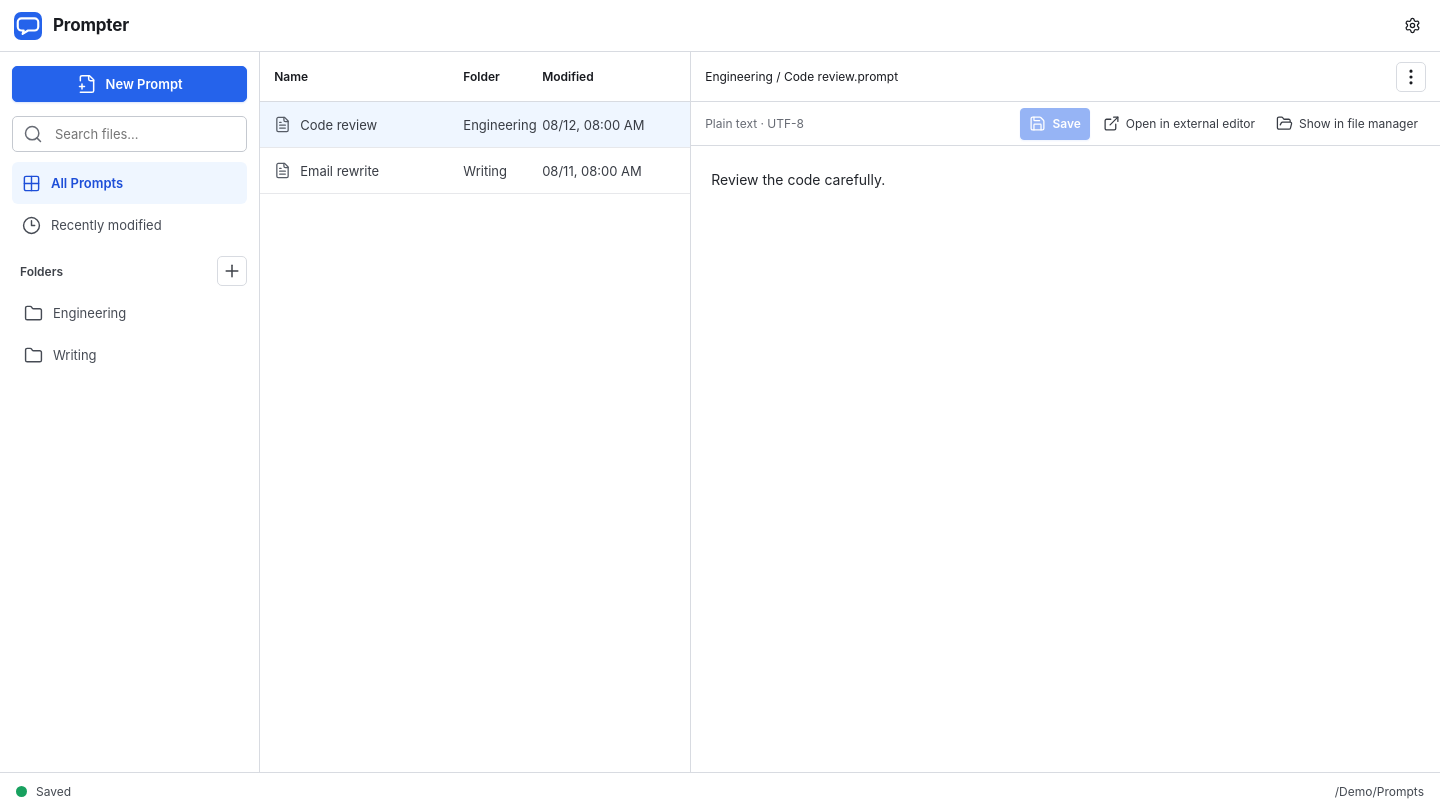
Test: Manager › discards an unsaved draft when browsing to another prompt
Replace the text in the text box named "Code review.prompt" with "Discard this draft" at (1066, 459), box [691, 146, 1440, 772]
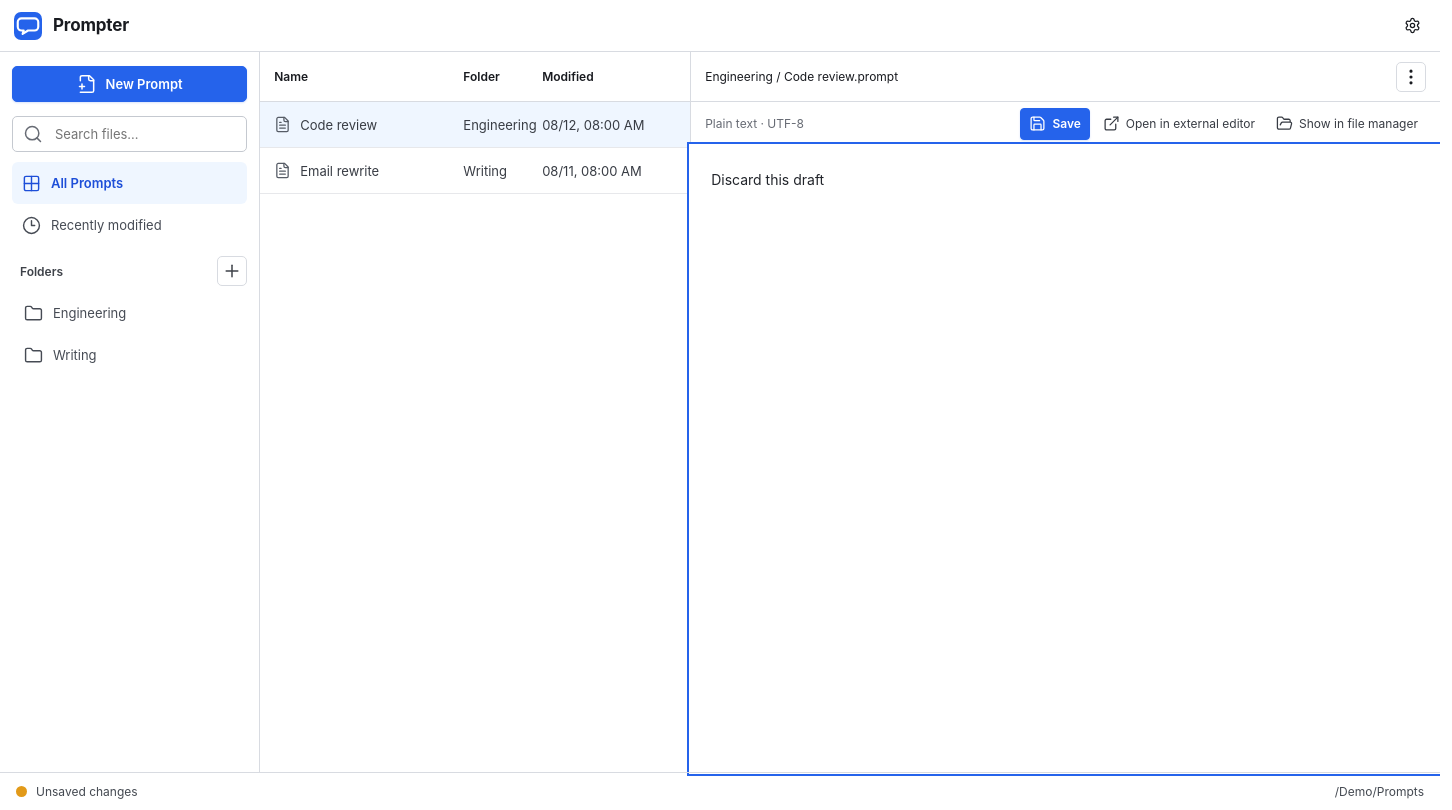
Click the button "Email rewrite Writing 08/11, 08:00 AM" at (475, 171), box [260, 148, 690, 194]
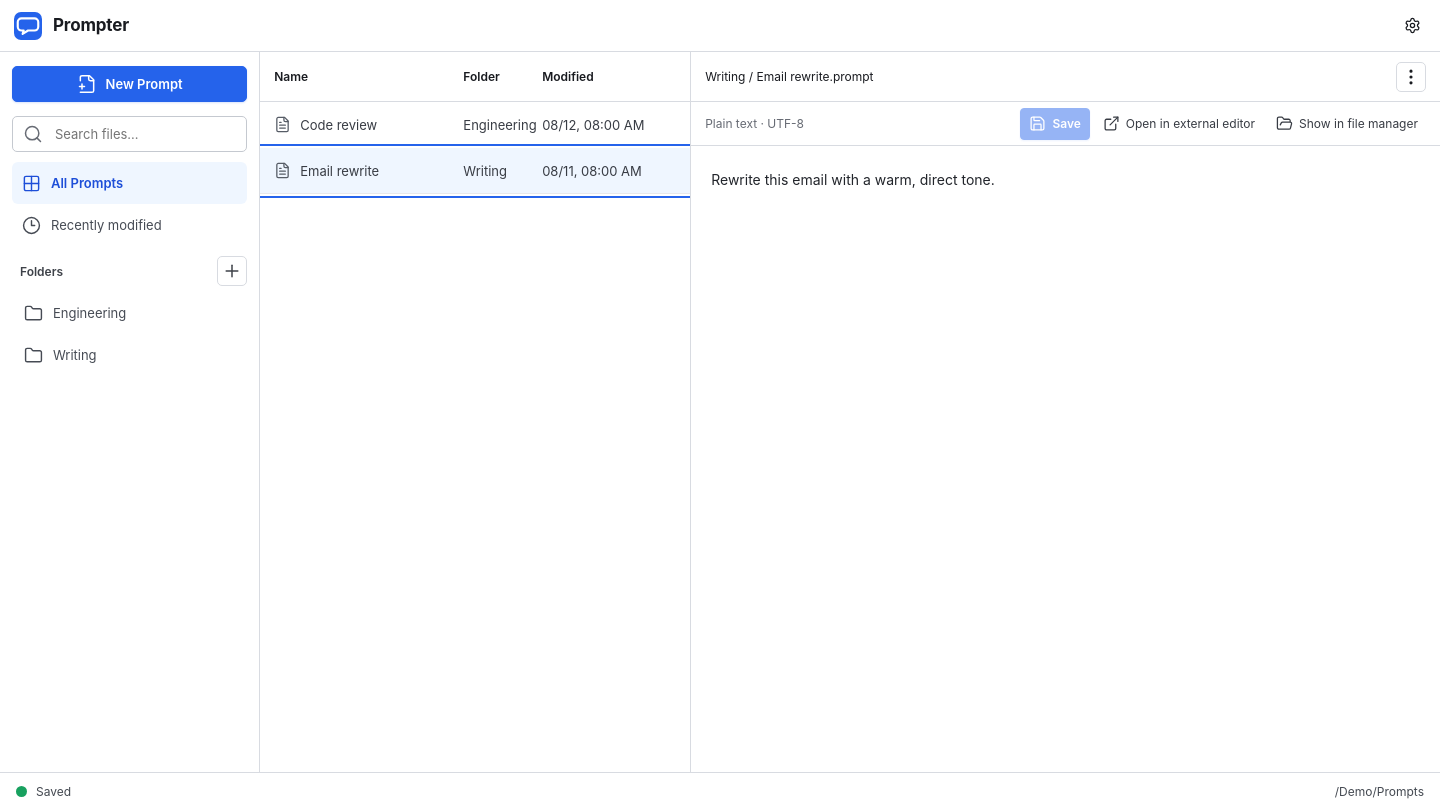
Expected: the field showing "Discard this draft" is not shown
Expected: the text box showing "Rewrite this email with a warm, direct tone." is shown, [691, 146, 1440, 772]
